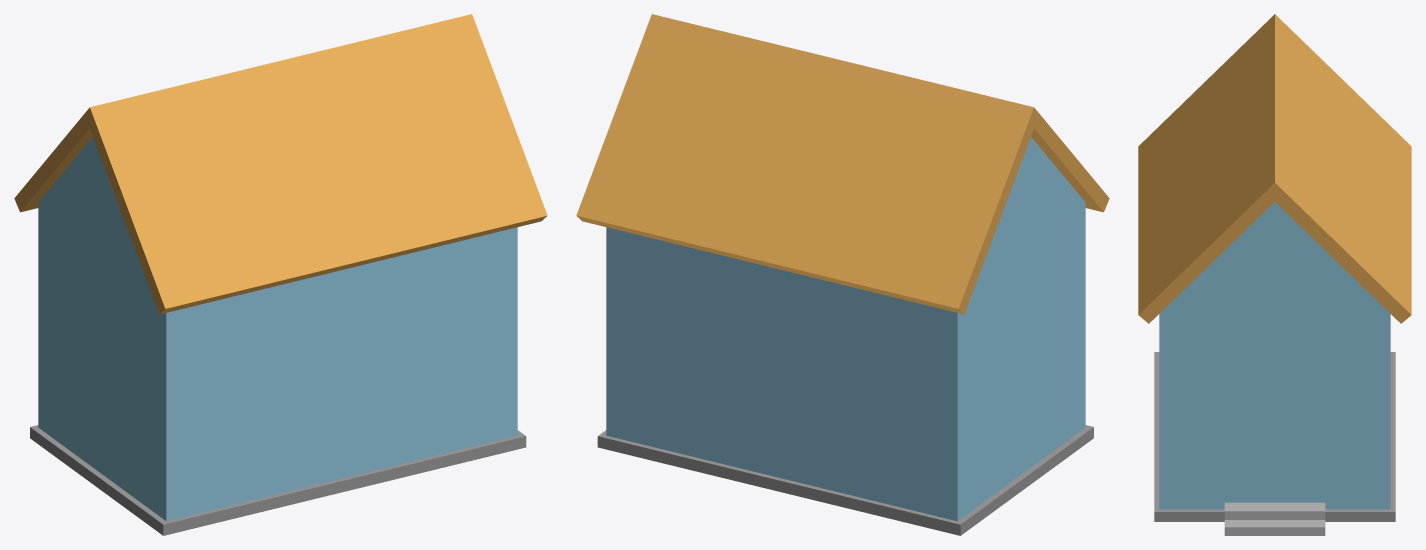
The model's file is Dom_3.fbx.
3 renders of one model, left to right at view 1: azimuth 30°, elevation 25°; view 2: azimuth 150°, elevation 25°; view 3: azimuth 270°, elevation 25°, orthographic. The views are drawn at different scales.
Visible parts, largest first — view 1: Cube, Cube.004; view 2: Cube, Cube.004; view 3: Cube, Cube.004, Cube.003, Cube.002.
Part boxes in pixels (<box>): Cube: <box>14,14,547,521</box>; Cube.004: <box>30,425,526,535</box>; Cube: <box>576,14,1109,521</box>; Cube.004: <box>597,425,1093,535</box>; Cube: <box>1138,14,1411,509</box>; Cube.004: <box>1154,352,1395,521</box>; Cube.003: <box>1224,502,1325,519</box>; Cube.002: <box>1224,520,1325,535</box>.
Size of the model in its own units: 6.48 by 5.91 by 4.24.
